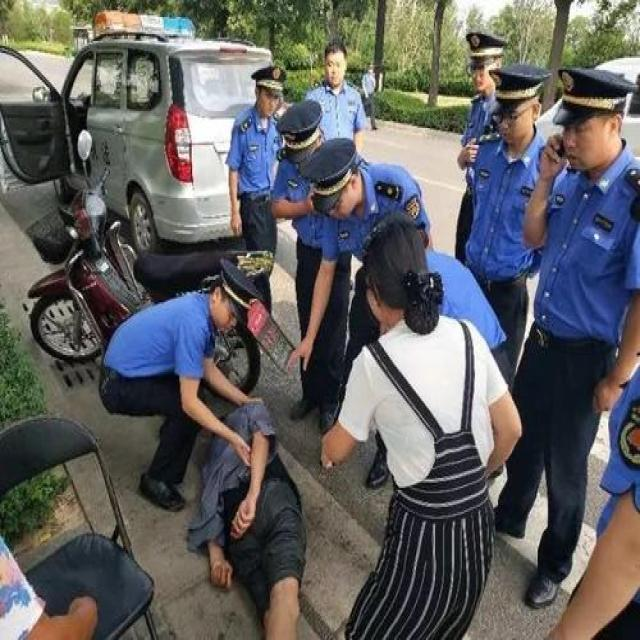10-: (0, 26, 639, 638)
down: (183, 394, 310, 638)
